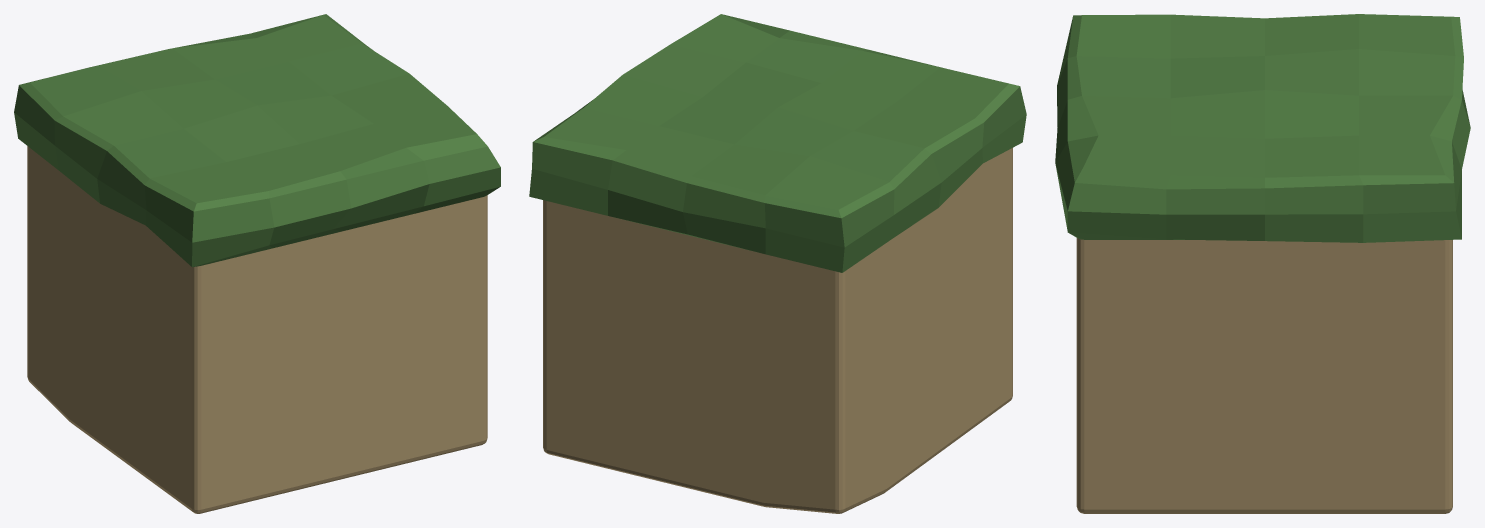
File: env_suelo_4x4.fbx
3 views of the same model, side by side, from view 1: azimuth 30°, elevation 25°; view 2: azimuth 150°, elevation 25°; view 3: azimuth 270°, elevation 25° (orthographic). The views are drawn at different scales.
Visible parts, largest first — view 1: env_suelo_hierba; view 2: env_suelo_hierba; view 3: env_suelo_hierba.
Boxes of the visible parts, box(x1,y1,x2,y2) form: env_suelo_hierba: box(14, 14, 500, 513); env_suelo_hierba: box(529, 14, 1026, 513); env_suelo_hierba: box(1055, 14, 1470, 513).
Size of the model in its own units: 7.9 by 7.41 by 8.01.
